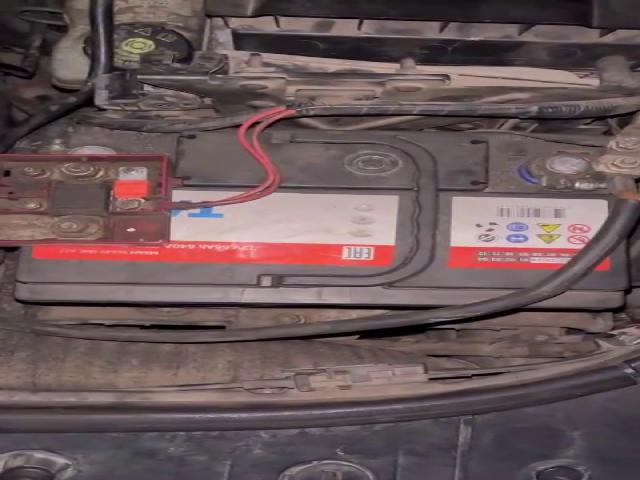accumulator: (0, 122, 630, 311)
